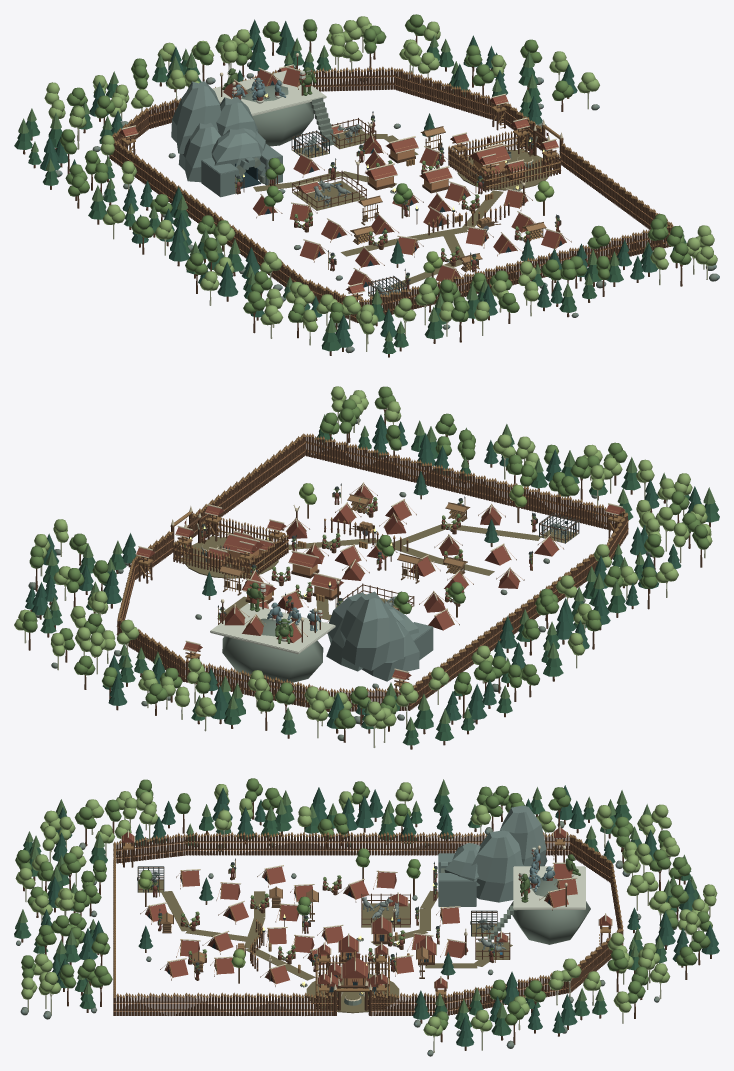
Rendered from fortified-warcamp-v8.glb.
3 renders of one model, top to bottom at view 1: azimuth 30°, elevation 25°; view 2: azimuth 150°, elevation 25°; view 3: azimuth 270°, elevation 25°, orthographic. The views are drawn at different scales.
Parts seen in each view (by area): view 1: fortified-warcamp-v8 Dark timber beams, fortified-warcamp-v8 Soft meadow birch leaves, fortified-warcamp-v8 Broad oak foliage, fortified-warcamp-v8 Red ochre hide, fortified-warcamp-v8 Deep fir needles, fortified-warcamp-v8 Faceted mountain granite, fortified-warcamp-v8 Forest deep needles, fortified-warcamp-v8 Warm cut timber, fortified-warcamp-v8 Packed camp earth, fortified-warcamp-v8 Forest new needles, fortified-warcamp-v8 Weathered foundation, fortified-warcamp-v8 Hide seams (+13 smaller); view 2: fortified-warcamp-v8 Dark timber beams, fortified-warcamp-v8 Soft meadow birch leaves, fortified-warcamp-v8 Broad oak foliage, fortified-warcamp-v8 Deep fir needles, fortified-warcamp-v8 Red ochre hide, fortified-warcamp-v8 Warm cut timber, fortified-warcamp-v8 Forest deep needles, fortified-warcamp-v8 Faceted mountain granite, fortified-warcamp-v8 Weathered foundation, fortified-warcamp-v8 Forest new needles, fortified-warcamp-v8 Hide seams, fortified-warcamp-v8 Packed camp earth (+12 smaller); view 3: fortified-warcamp-v8 Dark timber beams, fortified-warcamp-v8 Soft meadow birch leaves, fortified-warcamp-v8 Broad oak foliage, fortified-warcamp-v8 Red ochre hide, fortified-warcamp-v8 Deep fir needles, fortified-warcamp-v8 Faceted mountain granite, fortified-warcamp-v8 Warm cut timber, fortified-warcamp-v8 Forest deep needles, fortified-warcamp-v8 Packed camp earth, fortified-warcamp-v8 Weathered foundation, fortified-warcamp-v8 Forest new needles, fortified-warcamp-v8 Hide seams (+13 smaller).
Boxes of the visible parts, x1,y1,x2,y2 form: fortified-warcamp-v8 Dark timber beams: [23, 35, 682, 357]; fortified-warcamp-v8 Soft meadow birch leaves: [44, 16, 717, 334]; fortified-warcamp-v8 Broad oak foliage: [59, 14, 691, 323]; fortified-warcamp-v8 Red ochre hide: [119, 66, 565, 293]; fortified-warcamp-v8 Deep fir needles: [40, 19, 657, 347]; fortified-warcamp-v8 Faceted mountain granite: [59, 74, 719, 351]; fortified-warcamp-v8 Forest deep needles: [14, 46, 686, 353]; fortified-warcamp-v8 Warm cut timber: [112, 66, 673, 315]; fortified-warcamp-v8 Packed camp earth: [253, 129, 553, 300]; fortified-warcamp-v8 Forest new needles: [18, 34, 684, 341]; fortified-warcamp-v8 Weathered foundation: [55, 52, 717, 353]; fortified-warcamp-v8 Hide seams: [111, 75, 669, 317]; fortified-warcamp-v8 Dark timber beams: [28, 408, 710, 749]; fortified-warcamp-v8 Soft meadow birch leaves: [14, 386, 712, 728]; fortified-warcamp-v8 Broad oak foliage: [22, 386, 709, 728]; fortified-warcamp-v8 Deep fir needles: [25, 414, 701, 728]; fortified-warcamp-v8 Red ochre hide: [136, 485, 624, 679]; fortified-warcamp-v8 Warm cut timber: [117, 433, 628, 705]; fortified-warcamp-v8 Forest deep needles: [40, 429, 719, 745]; fortified-warcamp-v8 Faceted mountain granite: [30, 582, 433, 681]; fortified-warcamp-v8 Weathered foundation: [28, 418, 652, 740]; fortified-warcamp-v8 Forest new needles: [43, 414, 715, 730]; fortified-warcamp-v8 Hide seams: [116, 442, 628, 707]; fortified-warcamp-v8 Packed camp earth: [181, 523, 578, 620]; fortified-warcamp-v8 Dark timber beams: [21, 802, 711, 1050]; fortified-warcamp-v8 Soft meadow birch leaves: [15, 782, 717, 1036]; fortified-warcamp-v8 Broad oak foliage: [15, 778, 712, 1030]; fortified-warcamp-v8 Red ochre hide: [122, 828, 611, 989]; fortified-warcamp-v8 Deep fir needles: [39, 785, 719, 1046]; fortified-warcamp-v8 Faceted mountain granite: [16, 805, 664, 1055]; fortified-warcamp-v8 Warm cut timber: [113, 832, 623, 1010]; fortified-warcamp-v8 Forest deep needles: [14, 794, 698, 1035]; fortified-warcamp-v8 Packed camp earth: [138, 880, 512, 1013]; fortified-warcamp-v8 Weathered foundation: [16, 821, 677, 1056]; fortified-warcamp-v8 Forest new needles: [18, 779, 700, 1018]; fortified-warcamp-v8 Hide seams: [113, 830, 623, 1011].
Size of the model in its own units: 56.01 by 9.55 by 68.18.
